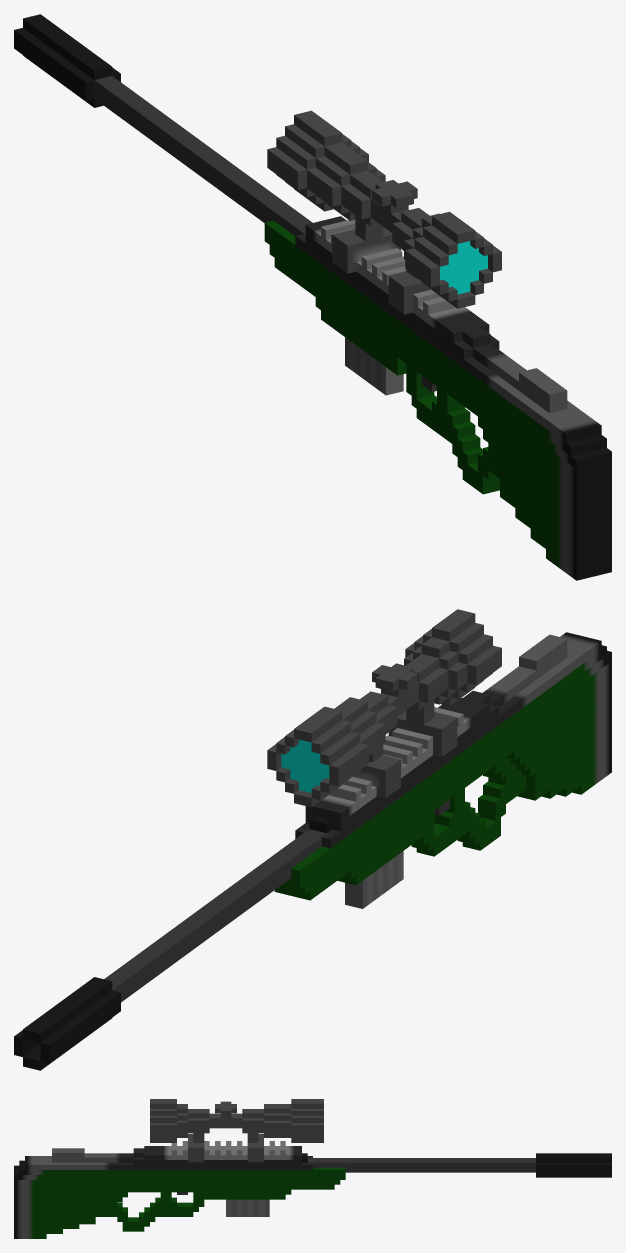
Rendered from SimpleSniper.fbx.
The picture shows the model from 3 angles, top to bottom: view 1: azimuth 30°, elevation 25°; view 2: azimuth 150°, elevation 25°; view 3: azimuth 270°, elevation 25°; orthographic projection. The views are drawn at different scales.
Visible parts, largest first — view 1: Matrix; view 2: Matrix; view 3: Matrix.
Boxes of the visible parts, box(x1,y1,x2,y2) form: Matrix: box(14, 14, 611, 580); Matrix: box(14, 609, 611, 1070); Matrix: box(14, 1099, 611, 1238).
Bounding box in the file's own units: 8 × 27 × 110.
Materials: 1 (1 with a texture image).
